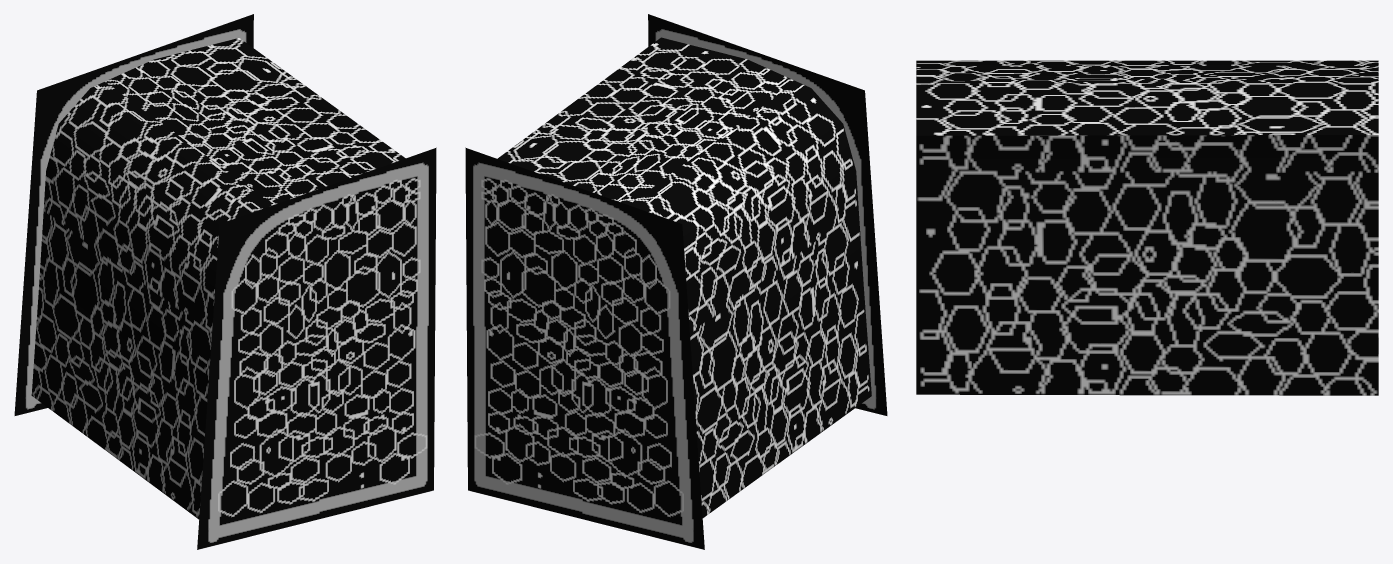
The model's file is maali.glb.
3 views of the same model, side by side, from view 1: azimuth 30°, elevation 25°; view 2: azimuth 150°, elevation 25°; view 3: azimuth 270°, elevation 25° (orthographic). The views are drawn at different scales.
Parts seen in each view (by area): view 1: Plane; view 2: Plane; view 3: Plane.
Part boxes in pixels (x1,y1,x2,y2): Plane: (14, 14, 436, 549); Plane: (465, 14, 887, 549); Plane: (916, 60, 1378, 395).
Bounding box in the file's own units: 0.7391 × 1.01 × 0.9766.
Materials: 1 (1 with a texture image).
